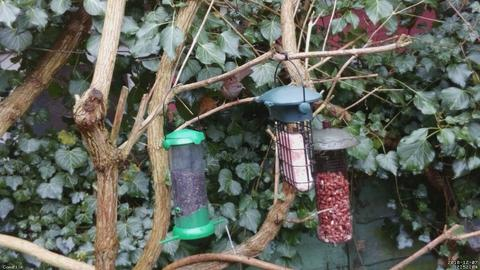dunnock: (220, 67, 254, 109)
